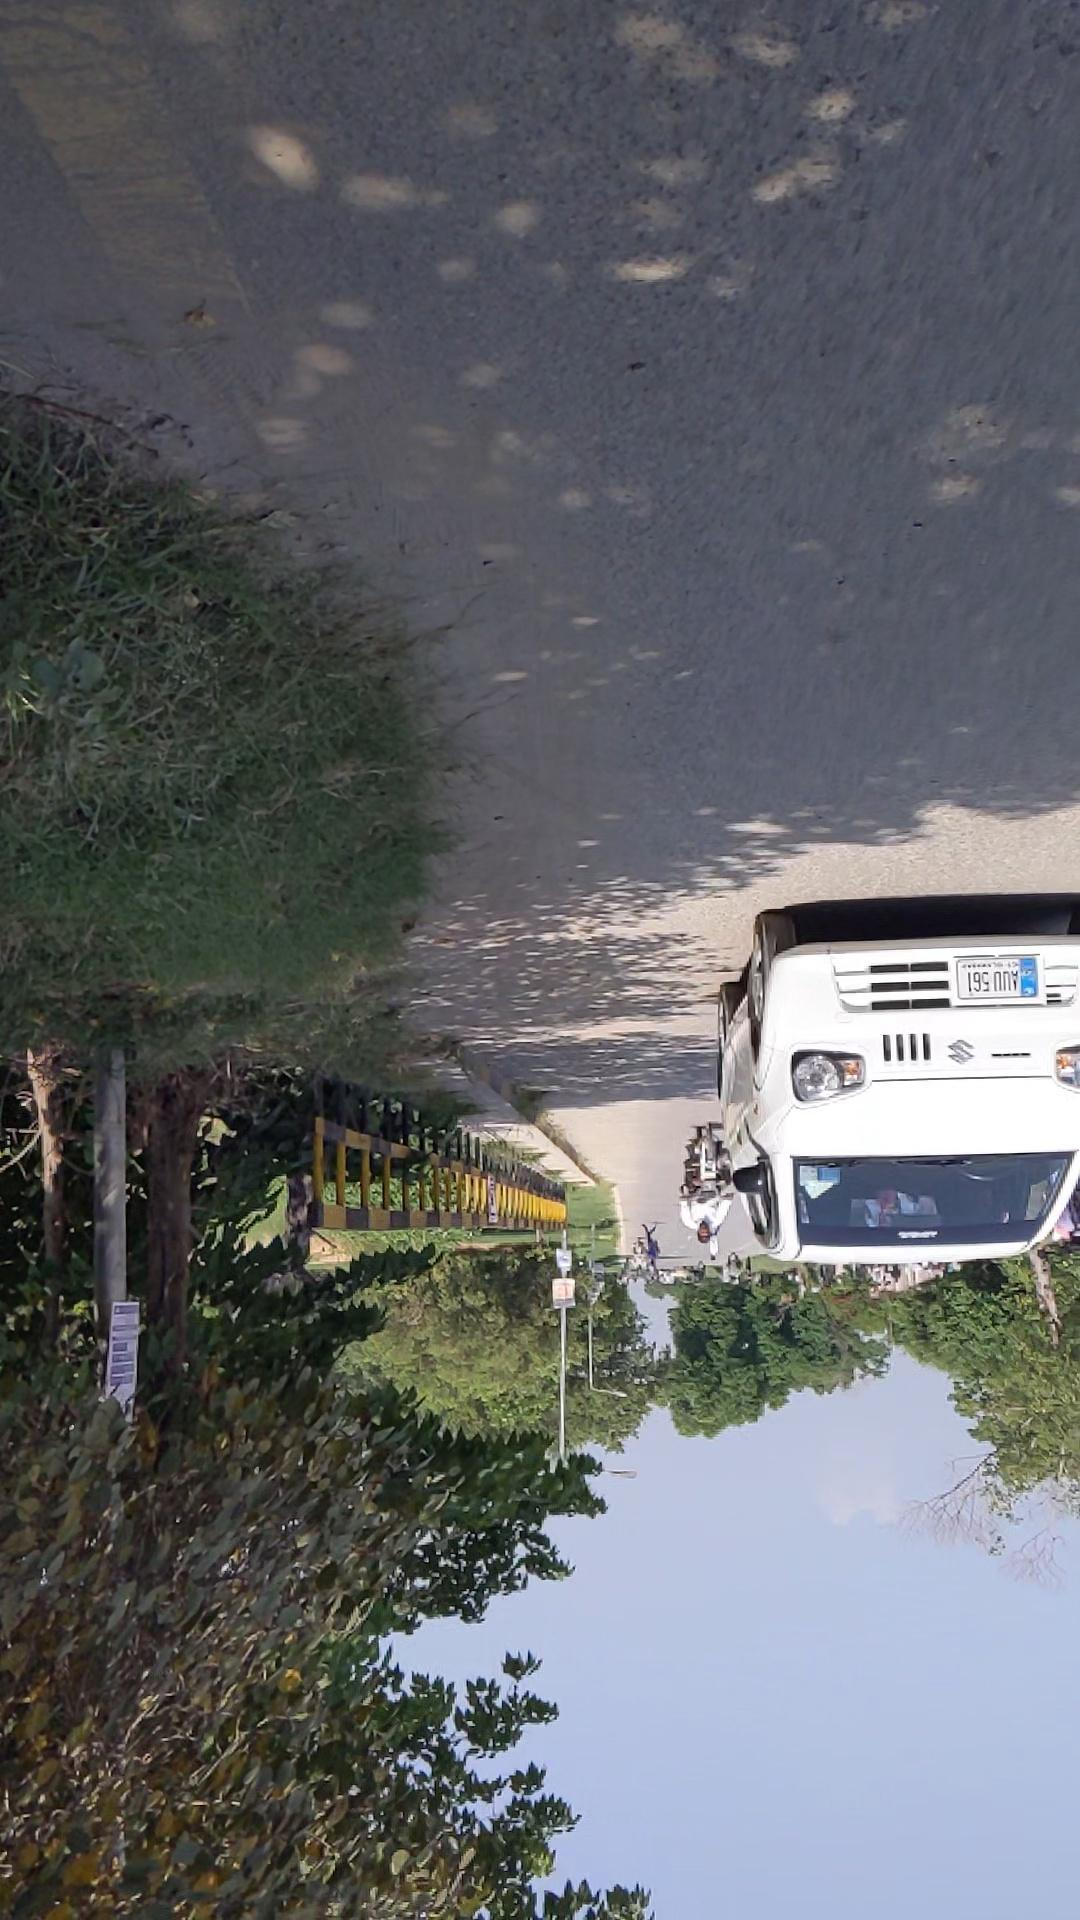windshield: (1, 655, 291, 775)
